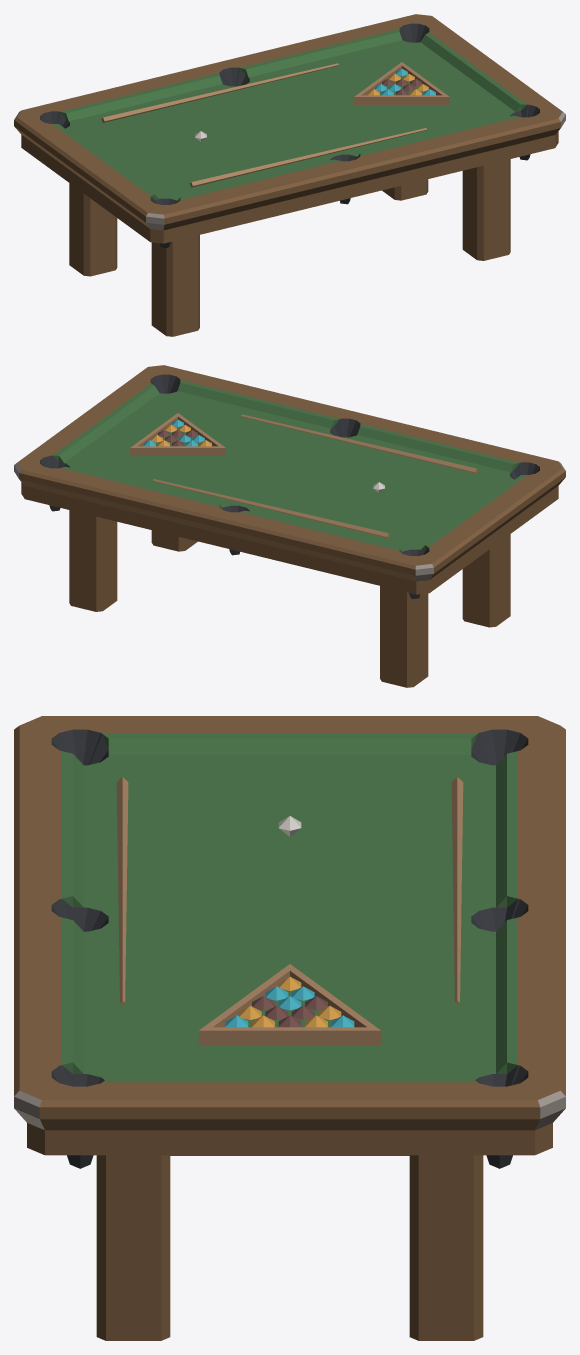
The model's file is pool-table-1b3f86.glb.
The picture shows the model from 3 angles, top to bottom: view 1: azimuth 30°, elevation 25°; view 2: azimuth 150°, elevation 25°; view 3: azimuth 270°, elevation 25°; orthographic projection. The views are drawn at different scales.
Parts seen in each view (by area): view 1: table, balls-mesh, cues-mesh; view 2: table, balls-mesh, cues-mesh; view 3: table, balls-mesh, cues-mesh.
Boxes of the visible parts, x1,y1,x2,y2 form: table: [14, 14, 565, 336]; balls-mesh: [195, 62, 449, 141]; cues-mesh: [101, 63, 426, 187]; table: [14, 365, 565, 687]; balls-mesh: [130, 413, 384, 492]; cues-mesh: [153, 414, 478, 538]; table: [14, 716, 565, 1340]; balls-mesh: [198, 816, 381, 1045]; cues-mesh: [116, 777, 463, 1004].
Size of the model in its own units: 2.5 by 0.8498 by 1.5.
